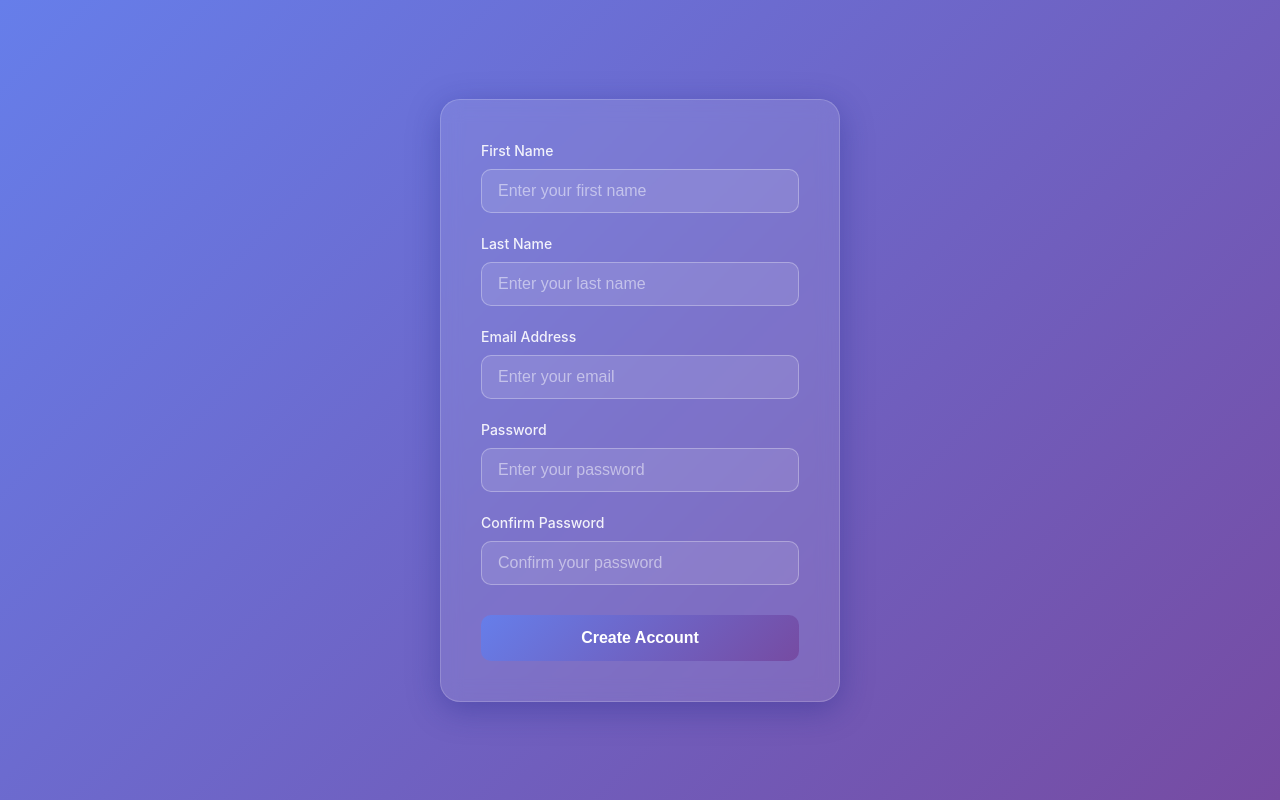
it: RegisterForm › shows error messages for invalid input
Step 1. Click the button "Create Account" → (640, 638), box [481,614,799,660]
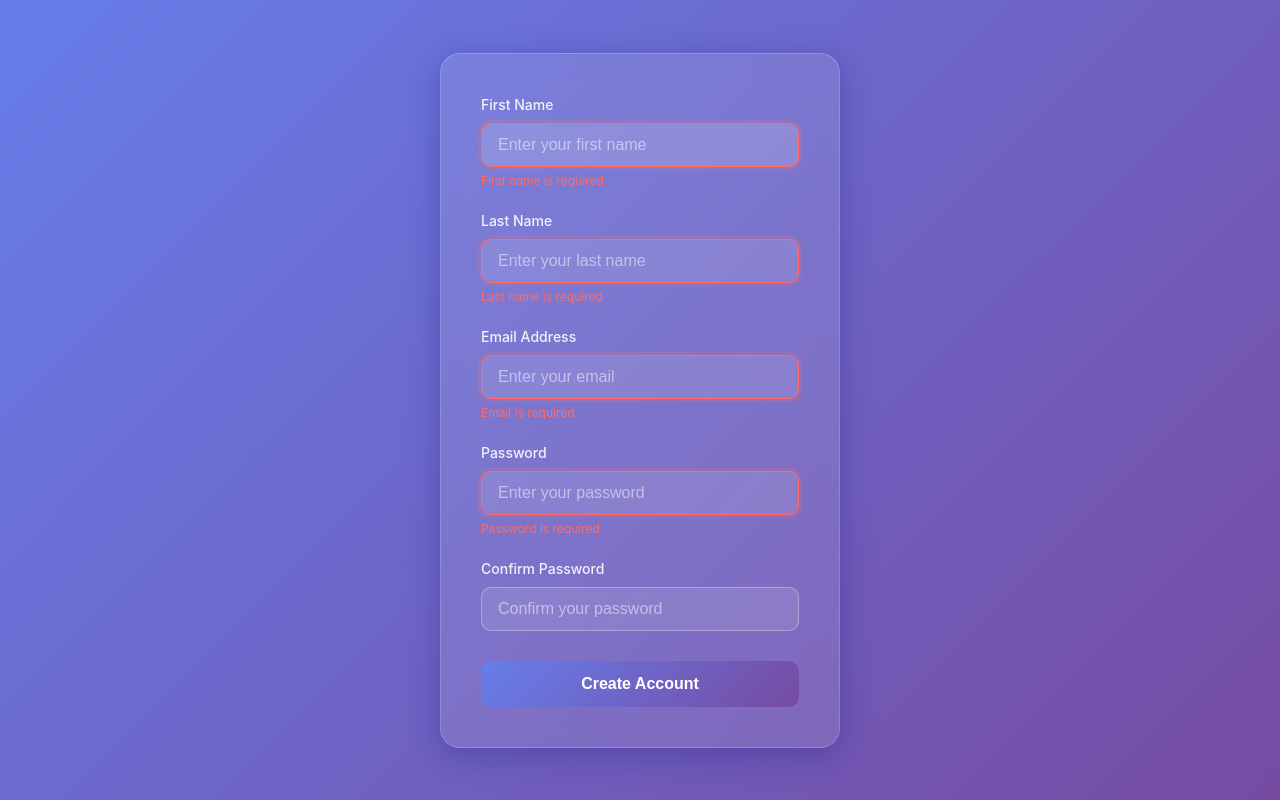
Result: the text "First name is required" is shown at [481,172,604,188]
